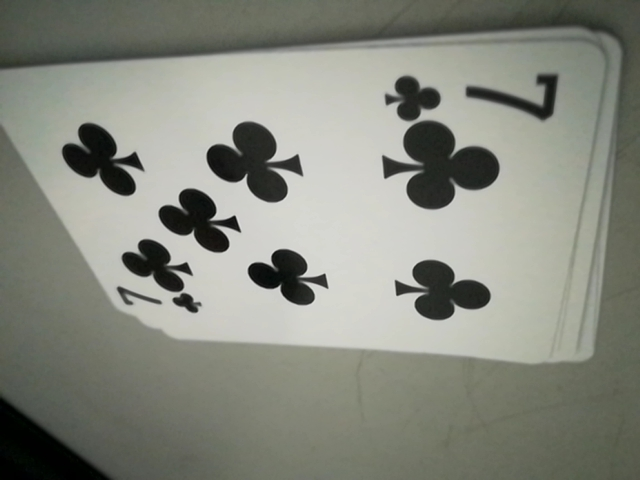mh 7: (381, 60, 568, 125), (109, 279, 199, 322)
